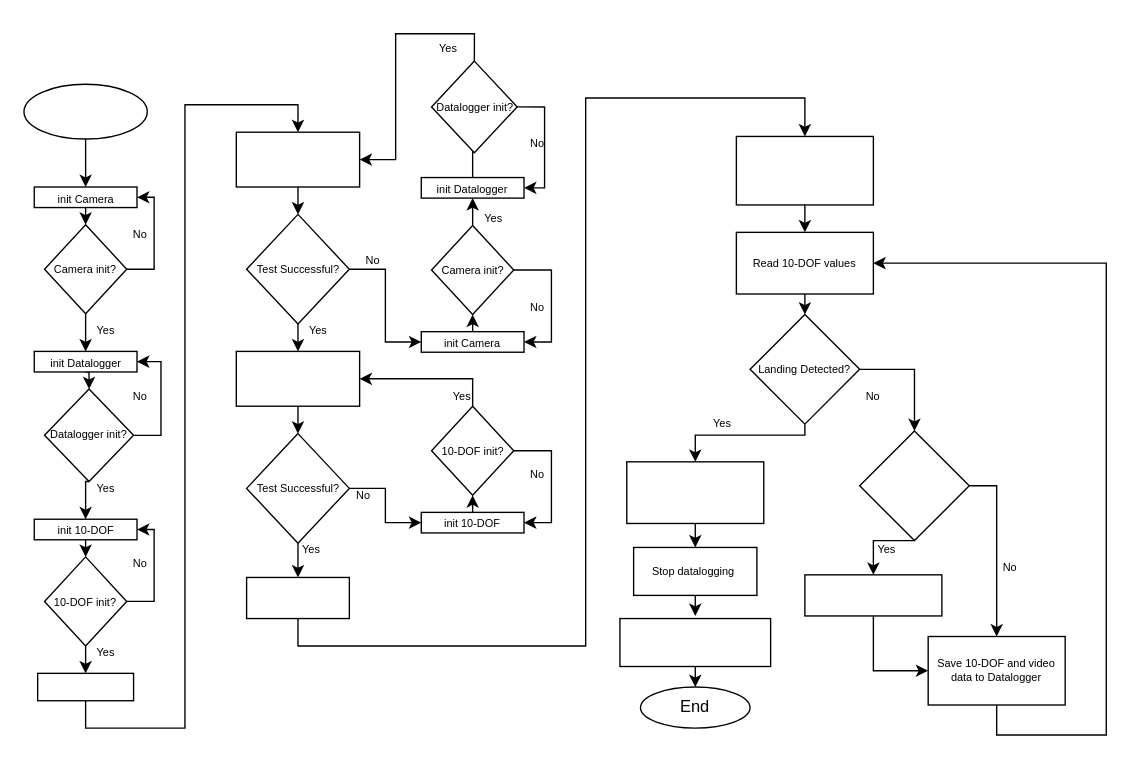
Image size: 1141x770. Some labels were removed from this diagram. Here are the shapes that lost their labels. From the top down, the centre of each, then its label:
At pixel 85 111: "Power On".
At pixel 297 159: "Test Camera and Datalogger".
At pixel 804 170: "Start camera recording".
At pixel 297 378: "Test 10-DOF".
At pixel 694 491: "Stop camera recording".
At pixel 913 485: "Storage full?".
At pixel 297 597: "Beep Beeper Multiple times".
At pixel 873 594: "Delete oldest video data".
At pixel 695 642: "Low power mode".
At pixel 85 686: "Beep Beeper".
